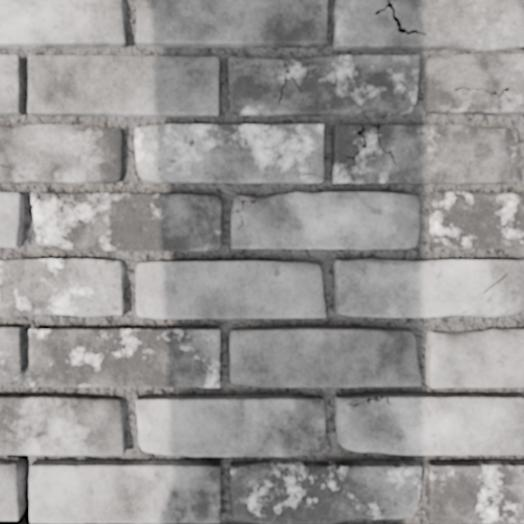brick: (14, 461, 219, 523), (230, 461, 420, 523), (28, 55, 218, 116), (228, 55, 418, 115), (335, 394, 523, 454), (136, 395, 324, 455), (229, 327, 420, 386), (29, 327, 219, 386), (332, 125, 521, 183), (135, 124, 323, 182), (334, 259, 523, 316), (33, 193, 221, 250), (136, 261, 324, 317), (231, 192, 418, 248), (333, 0, 523, 51), (137, 0, 326, 47), (0, 394, 125, 454), (0, 125, 123, 182), (0, 259, 123, 315), (425, 461, 523, 523), (424, 54, 523, 114), (0, 0, 125, 47), (426, 328, 523, 386), (430, 191, 523, 248), (0, 459, 22, 523), (0, 326, 24, 382), (0, 55, 22, 115), (0, 193, 23, 246), (32, 193, 36, 200)
crack: (2, 453, 30, 523), (55, 192, 85, 227), (370, 124, 396, 163), (345, 124, 367, 166), (231, 200, 256, 231), (31, 192, 40, 209), (302, 172, 323, 178), (212, 501, 220, 511)
